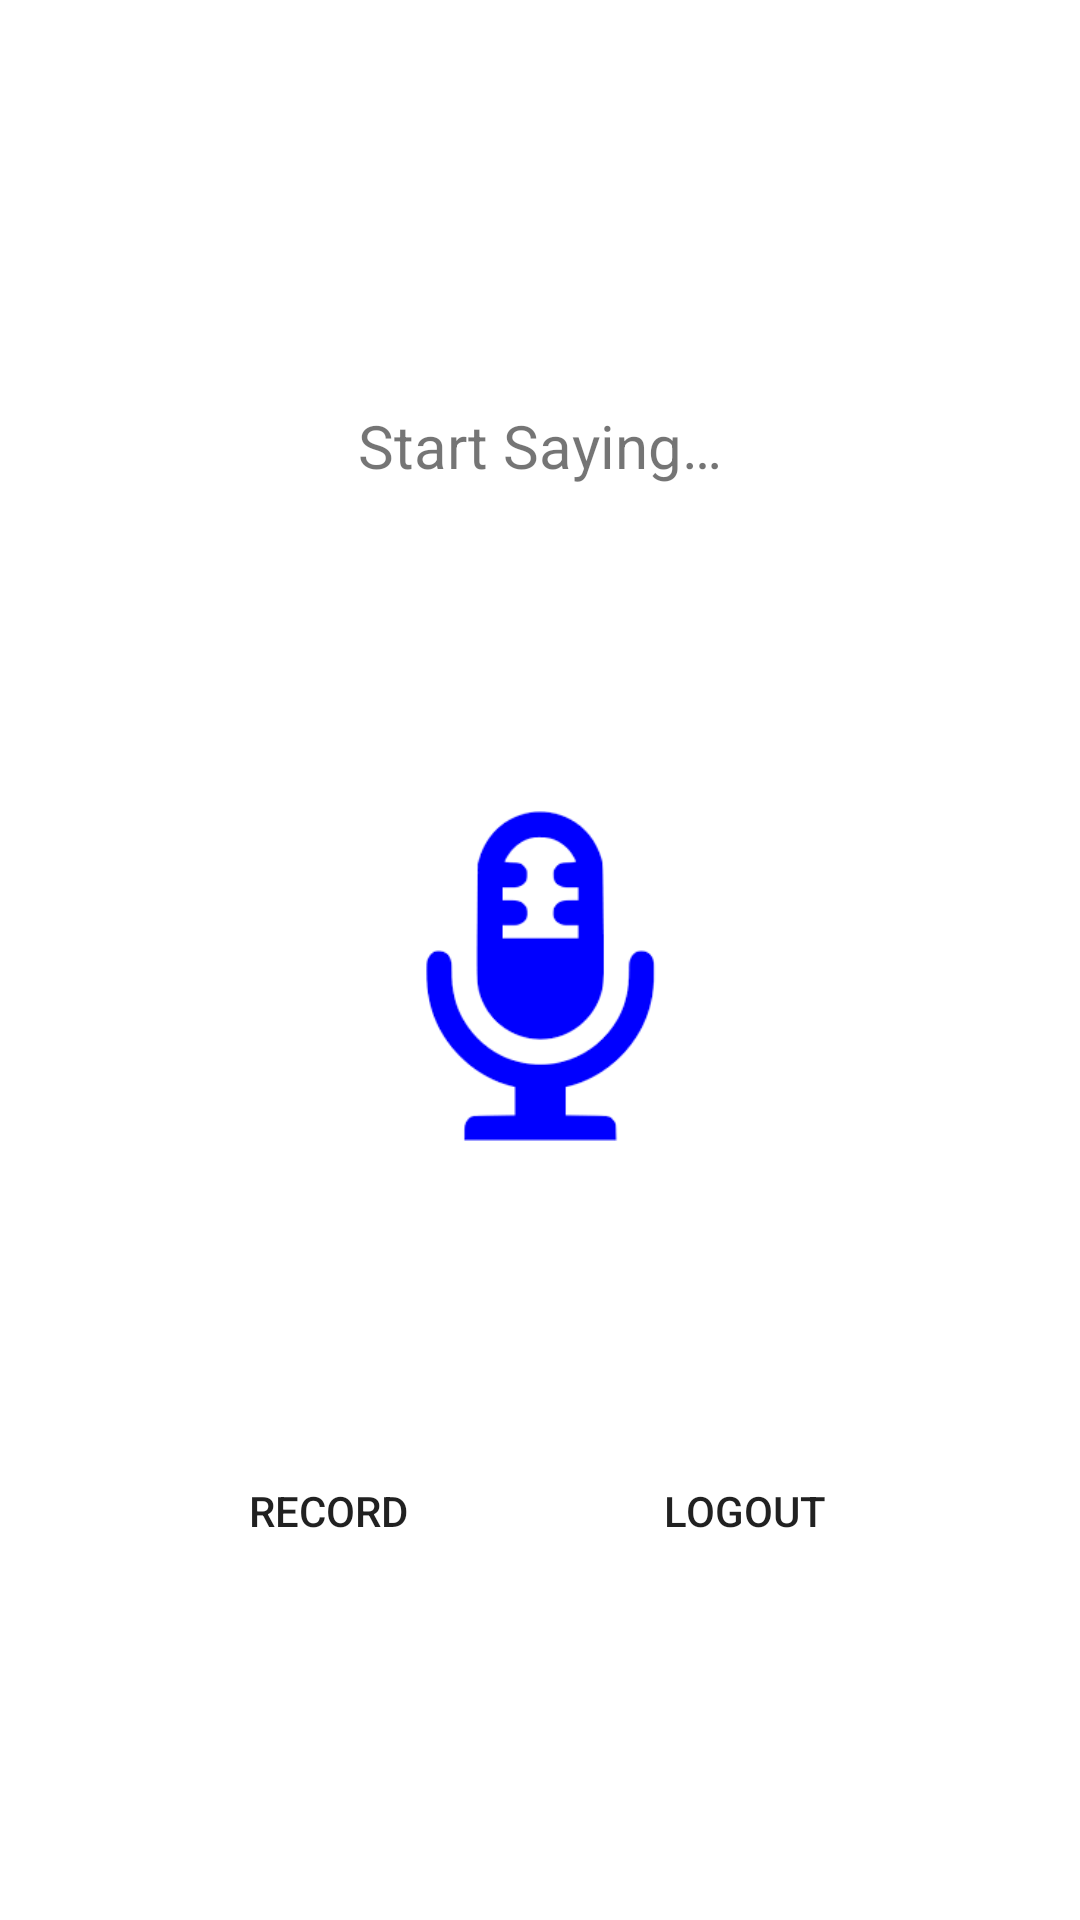

Screen size 1080px×1920px. Icon name, then its box in pixels as (x1, y1, x2, y2):
mic: (426, 811, 655, 1141)
